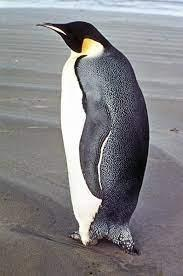emporer: (34, 12, 157, 262)
